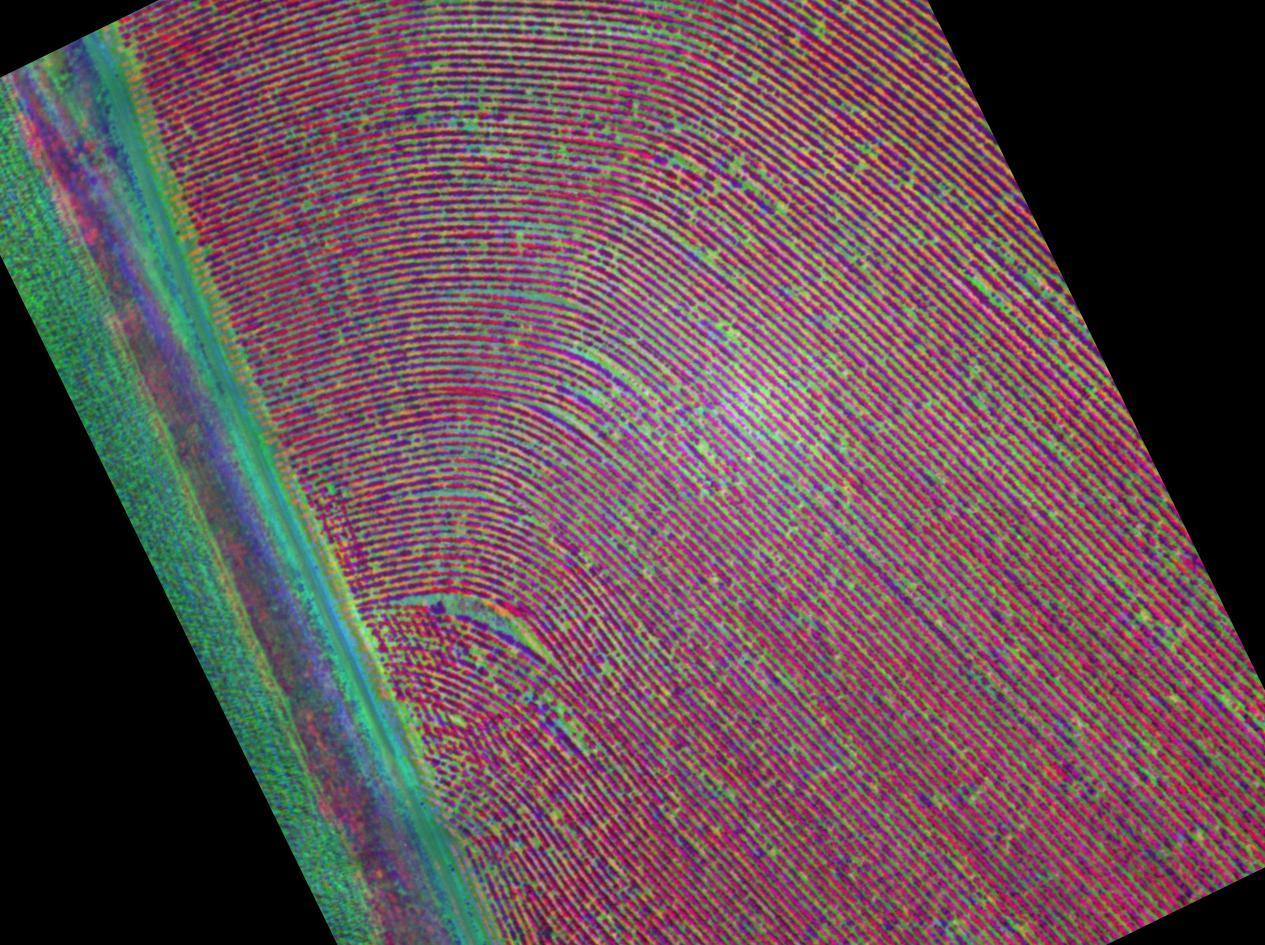dc: (396, 575, 562, 680), (546, 325, 688, 433), (373, 10, 525, 110), (638, 15, 757, 127), (926, 218, 1035, 328)
